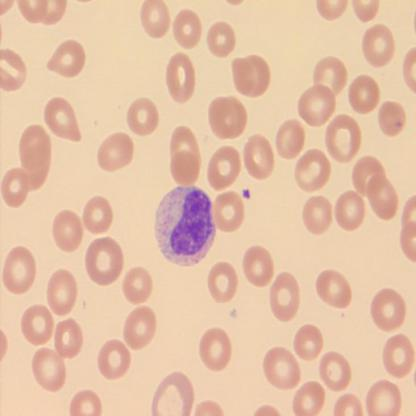Metamyelocyte: (153, 184, 218, 268)
